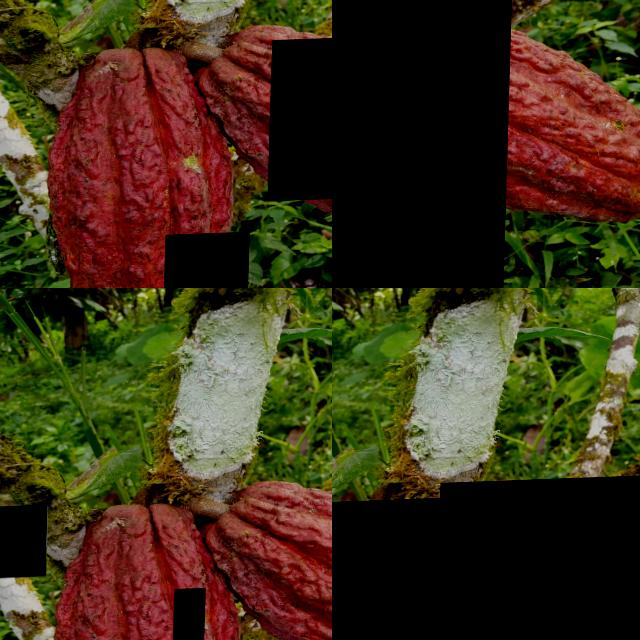Fitoftora: (332, 0, 513, 288), (270, 40, 332, 203)
Sana: (436, 474, 640, 640), (332, 498, 482, 640), (165, 234, 252, 288), (0, 506, 49, 578), (174, 590, 207, 640), (264, 573, 288, 597), (285, 629, 312, 638), (266, 547, 277, 561)
